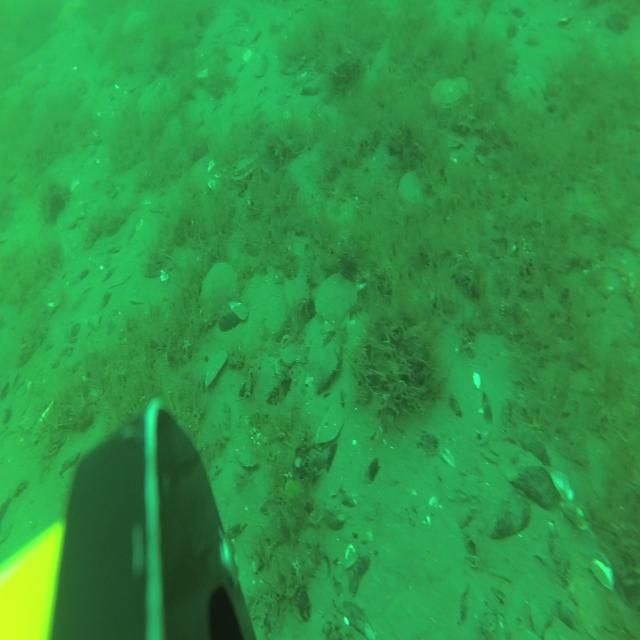scallop: (312, 268, 360, 332), (198, 260, 241, 326), (429, 74, 471, 112), (398, 164, 425, 212), (230, 151, 262, 185)
